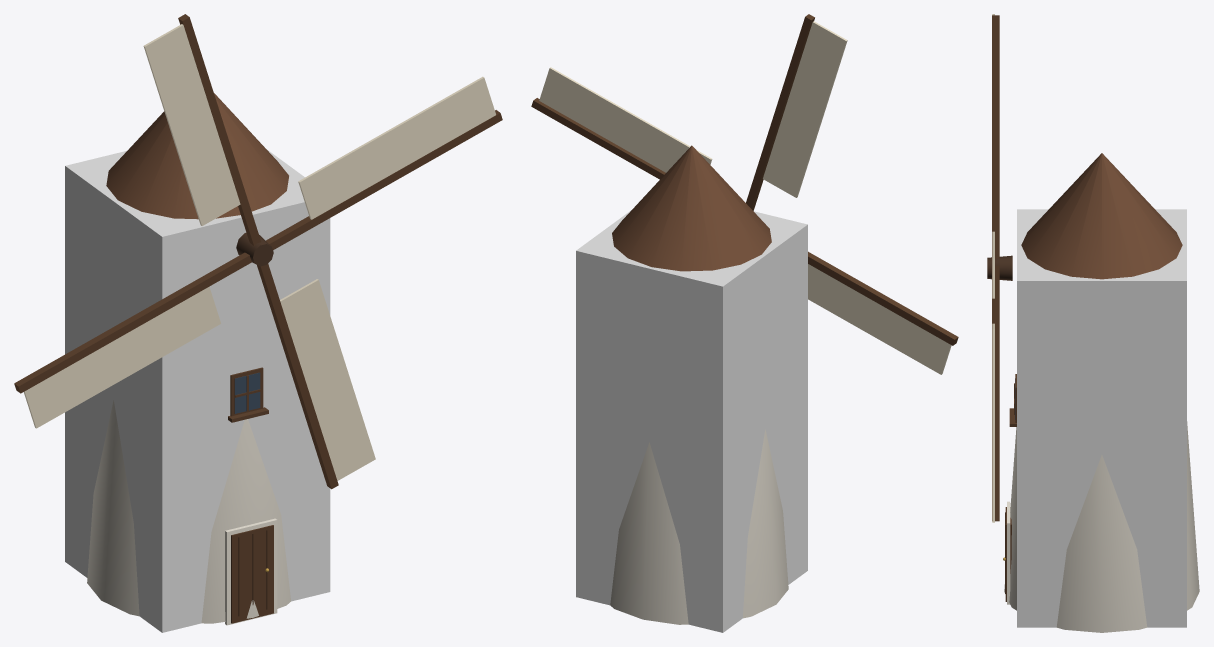
File: molino.glb
3 renders of one model, left to right at view 1: azimuth 30°, elevation 25°; view 2: azimuth 150°, elevation 25°; view 3: azimuth 270°, elevation 25°, orthographic. The views are drawn at different scales.
Parts seen in each view (by area): view 1: molino_Malla, COL_0; view 2: COL_0, molino_Malla; view 3: COL_0, molino_Malla.
Boxes of the visible parts, box(x1,y1,x2,y2) form: molino_Malla: box(14, 14, 502, 625); COL_0: box(65, 149, 330, 632); COL_0: box(576, 210, 807, 632); molino_Malla: box(531, 14, 958, 624); COL_0: box(1017, 209, 1186, 627); molino_Malla: box(987, 14, 1199, 632).
Size of the model in its own units: 11.52 by 14.22 by 5.
